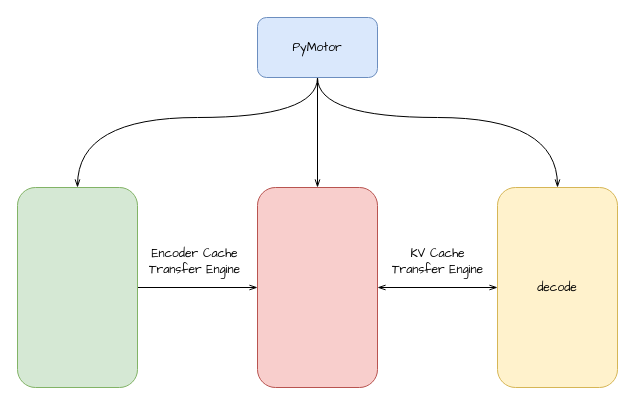
Image size: 635x405. Some labels were removed from this diagram. Here are the shapes that lost their labels. From the top down, the centre of each, then its label:
At [77,287]: "Encode".
At [317,287]: "prefill".
